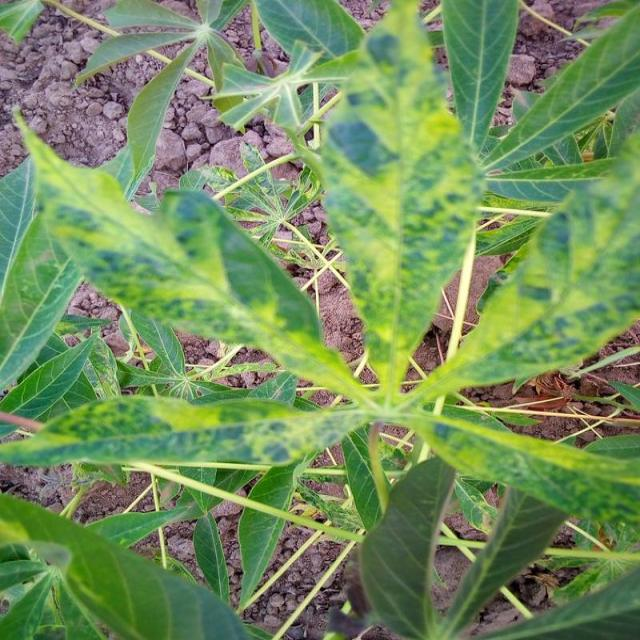cassava leaf: (0, 1, 638, 637), (317, 0, 486, 389)
